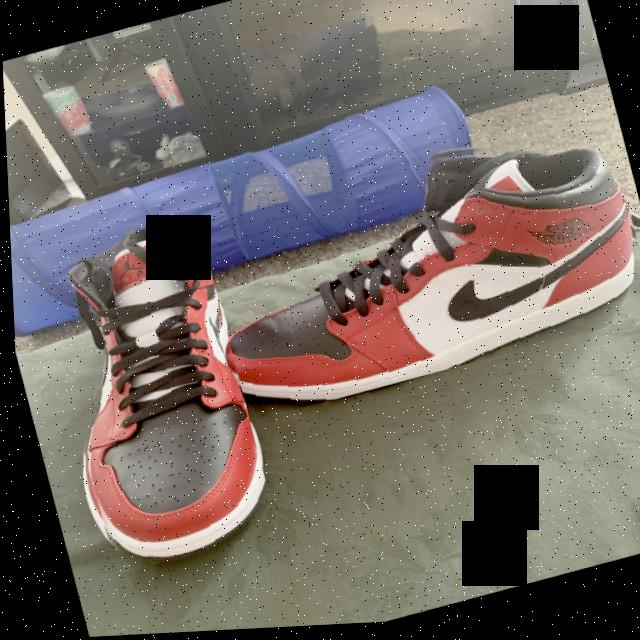shoe: (188, 110, 640, 427), (25, 214, 274, 580)
